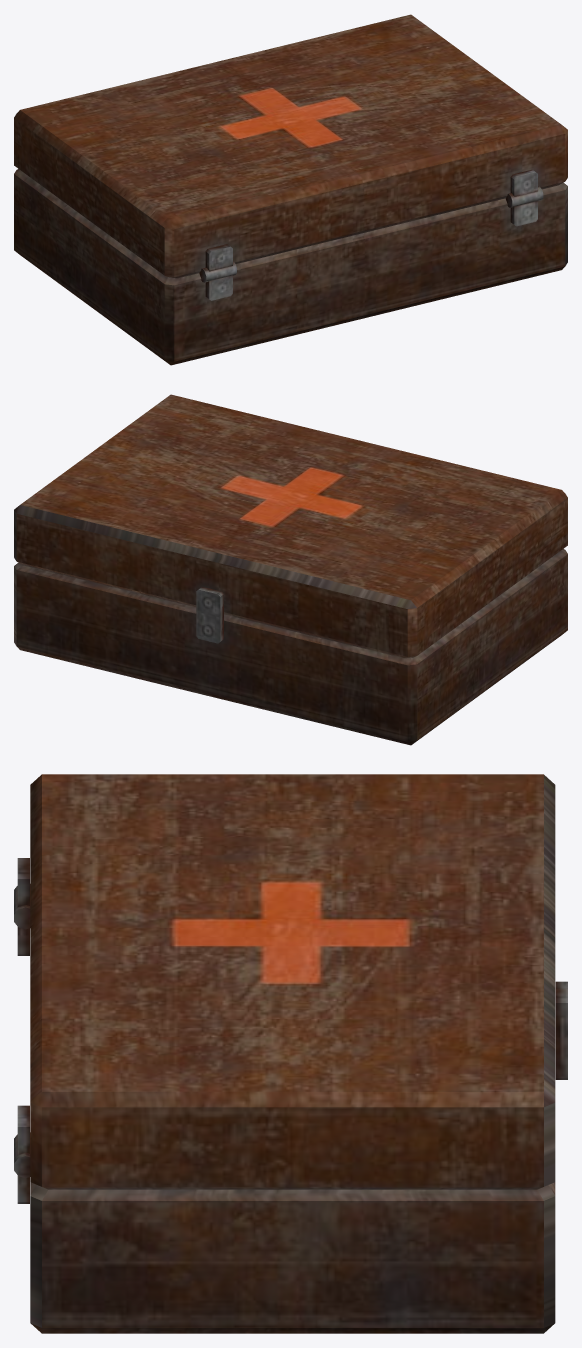
3 renders of one model, top to bottom at view 1: azimuth 30°, elevation 25°; view 2: azimuth 150°, elevation 25°; view 3: azimuth 270°, elevation 25°, orthographic. The views are drawn at different scales.
Visible parts, largest first — view 1: healthbox; view 2: healthbox; view 3: healthbox.
Boxes of the visible parts, box(x1,y1,x2,y2) form: healthbox: box(14, 14, 567, 365); healthbox: box(14, 394, 567, 745); healthbox: box(14, 774, 567, 1333).
Bounding box in the file's own units: 0.8716 × 0.3 × 0.6233.
1 material, 1 textured.
